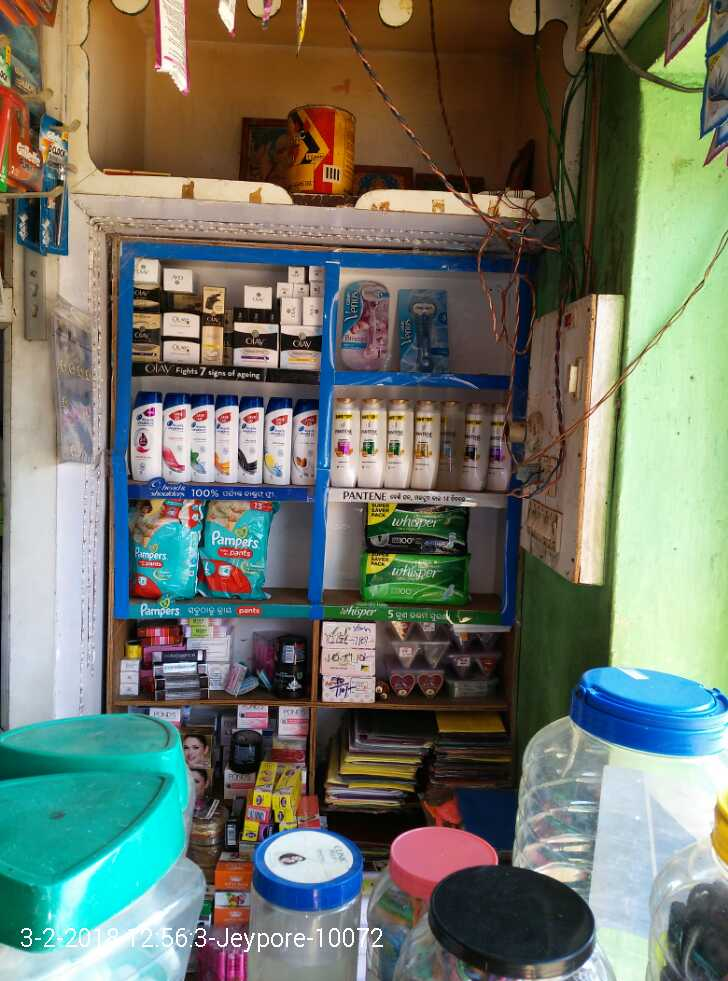gillete: (39, 125, 73, 244), (1, 101, 35, 198), (16, 204, 33, 247)
venus: (344, 282, 388, 367), (401, 288, 444, 370)
